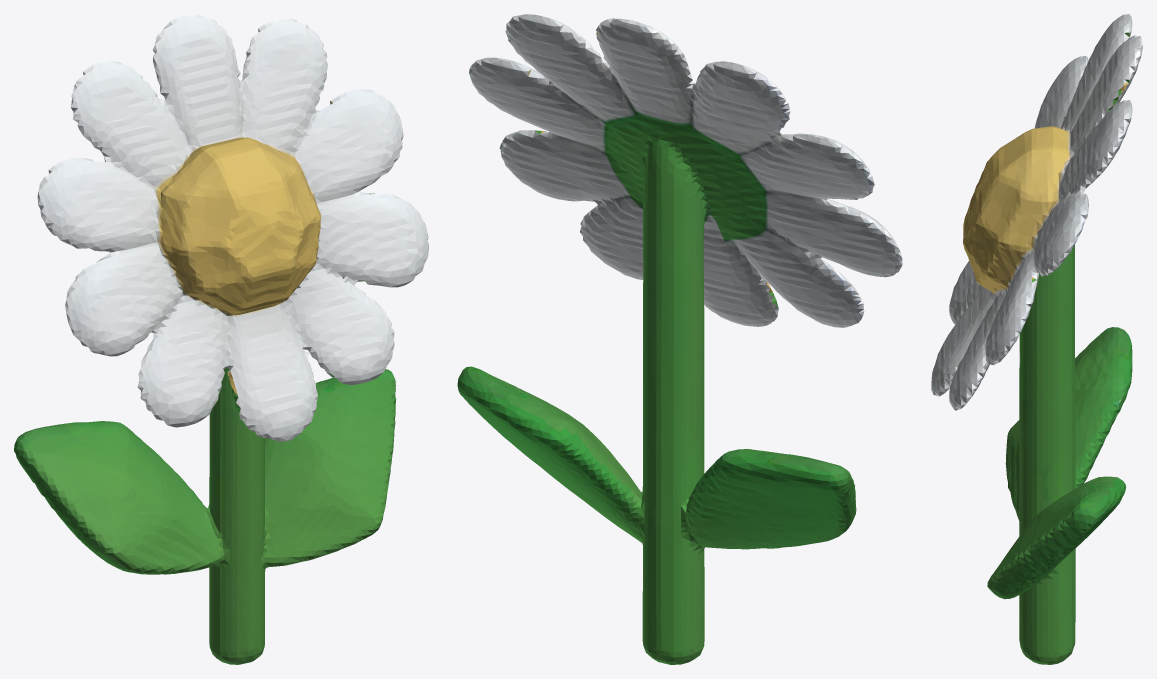
Rendered from flor_margarita.glb.
The picture shows the model from 3 angles, left to right: view 1: azimuth 30°, elevation 25°; view 2: azimuth 150°, elevation 25°; view 3: azimuth 270°, elevation 25°; orthographic projection. The views are drawn at different scales.
Visible parts, largest first — view 1: tmpff6zj1as.ply; view 2: tmpff6zj1as.ply; view 3: tmpff6zj1as.ply.
Boxes of the visible parts, box(x1,y1,x2,y2) form: tmpff6zj1as.ply: box(14, 14, 428, 664); tmpff6zj1as.ply: box(457, 14, 902, 664); tmpff6zj1as.ply: box(931, 14, 1142, 664).
Bounding box in the file's own units: 1.22 × 1.96 × 0.6096.
Materials: 1 (1 with a texture image).
